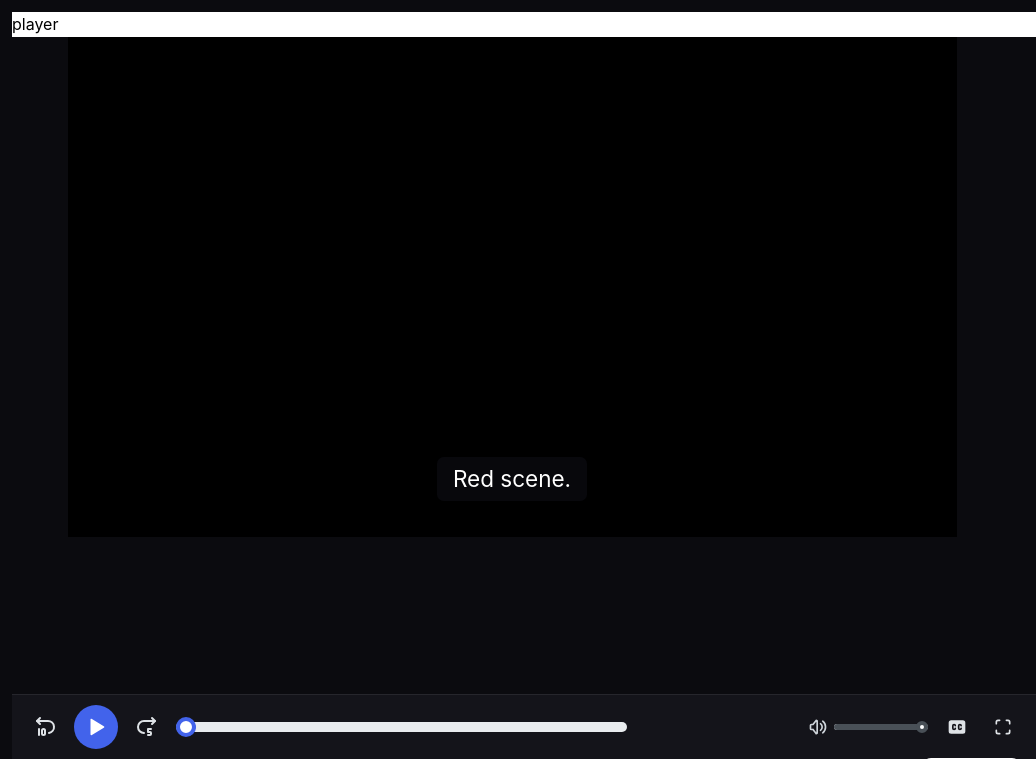
Test: Player with a Talkie film › pausing opens a comment on the film time, with the film size as the picture size
This screenshot has width=1036, height=759.
Later steps or results of the test are not shown.
Click the button with test id "play-pause": [96, 727] box [74, 705, 118, 749]
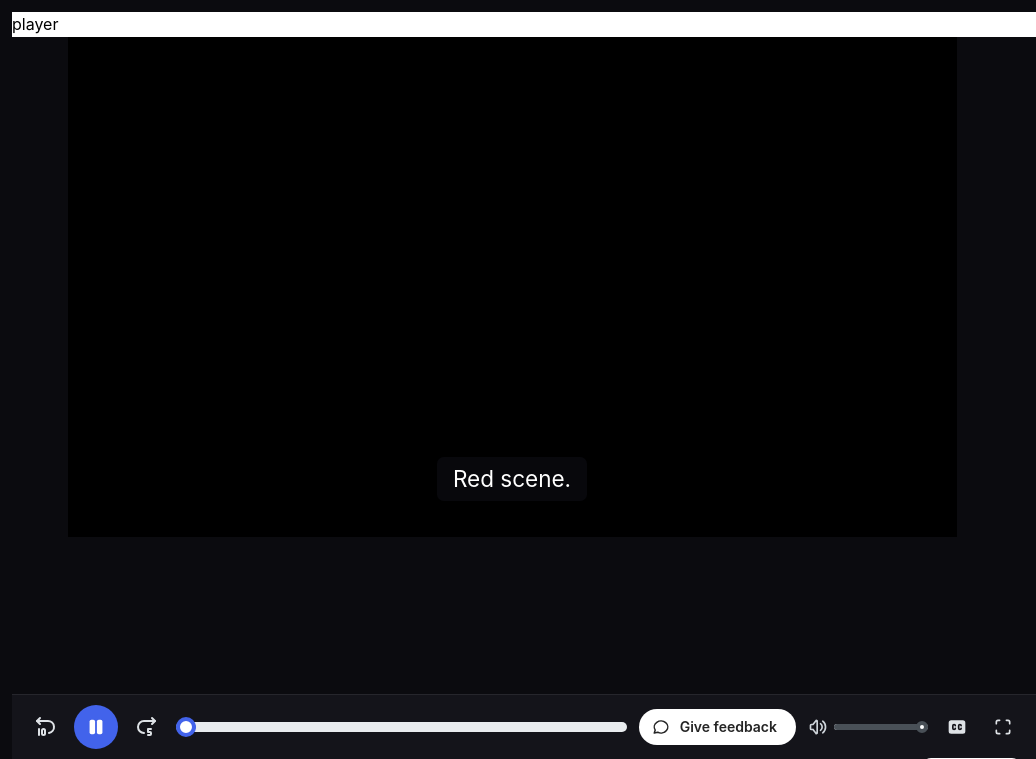
Click the button with test id "play-pause": [96, 727] box [74, 705, 118, 749]
Wait 5 ms
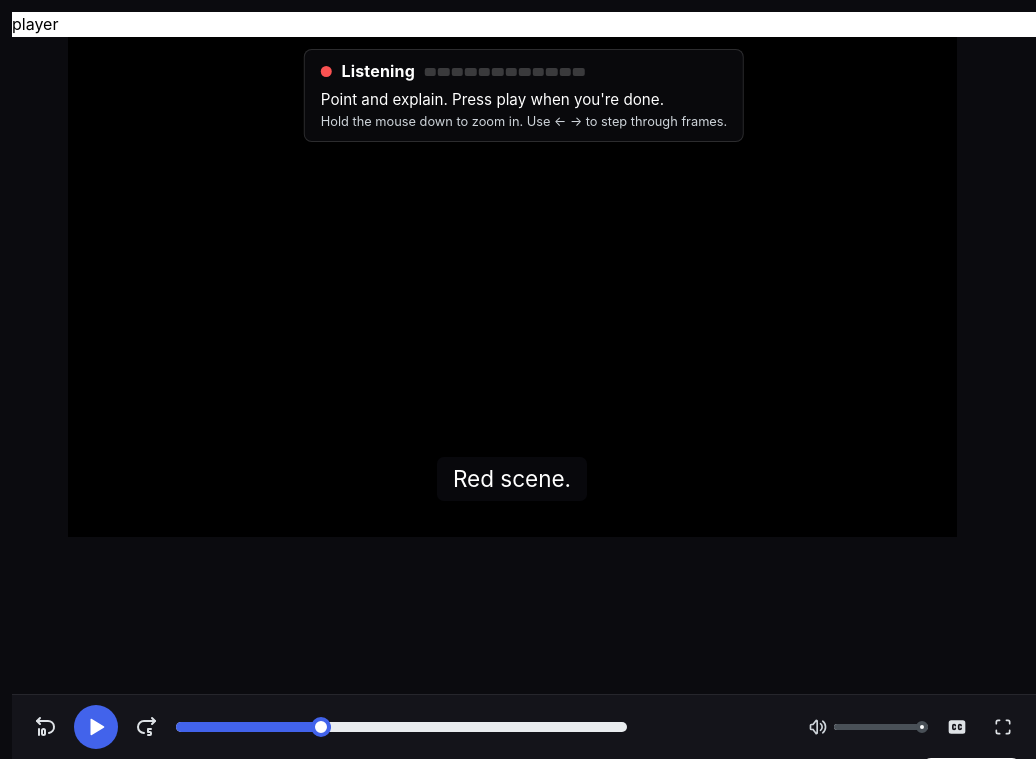
Result: the message with test id "listening-overlay" is shown at [304, 49, 744, 142]
